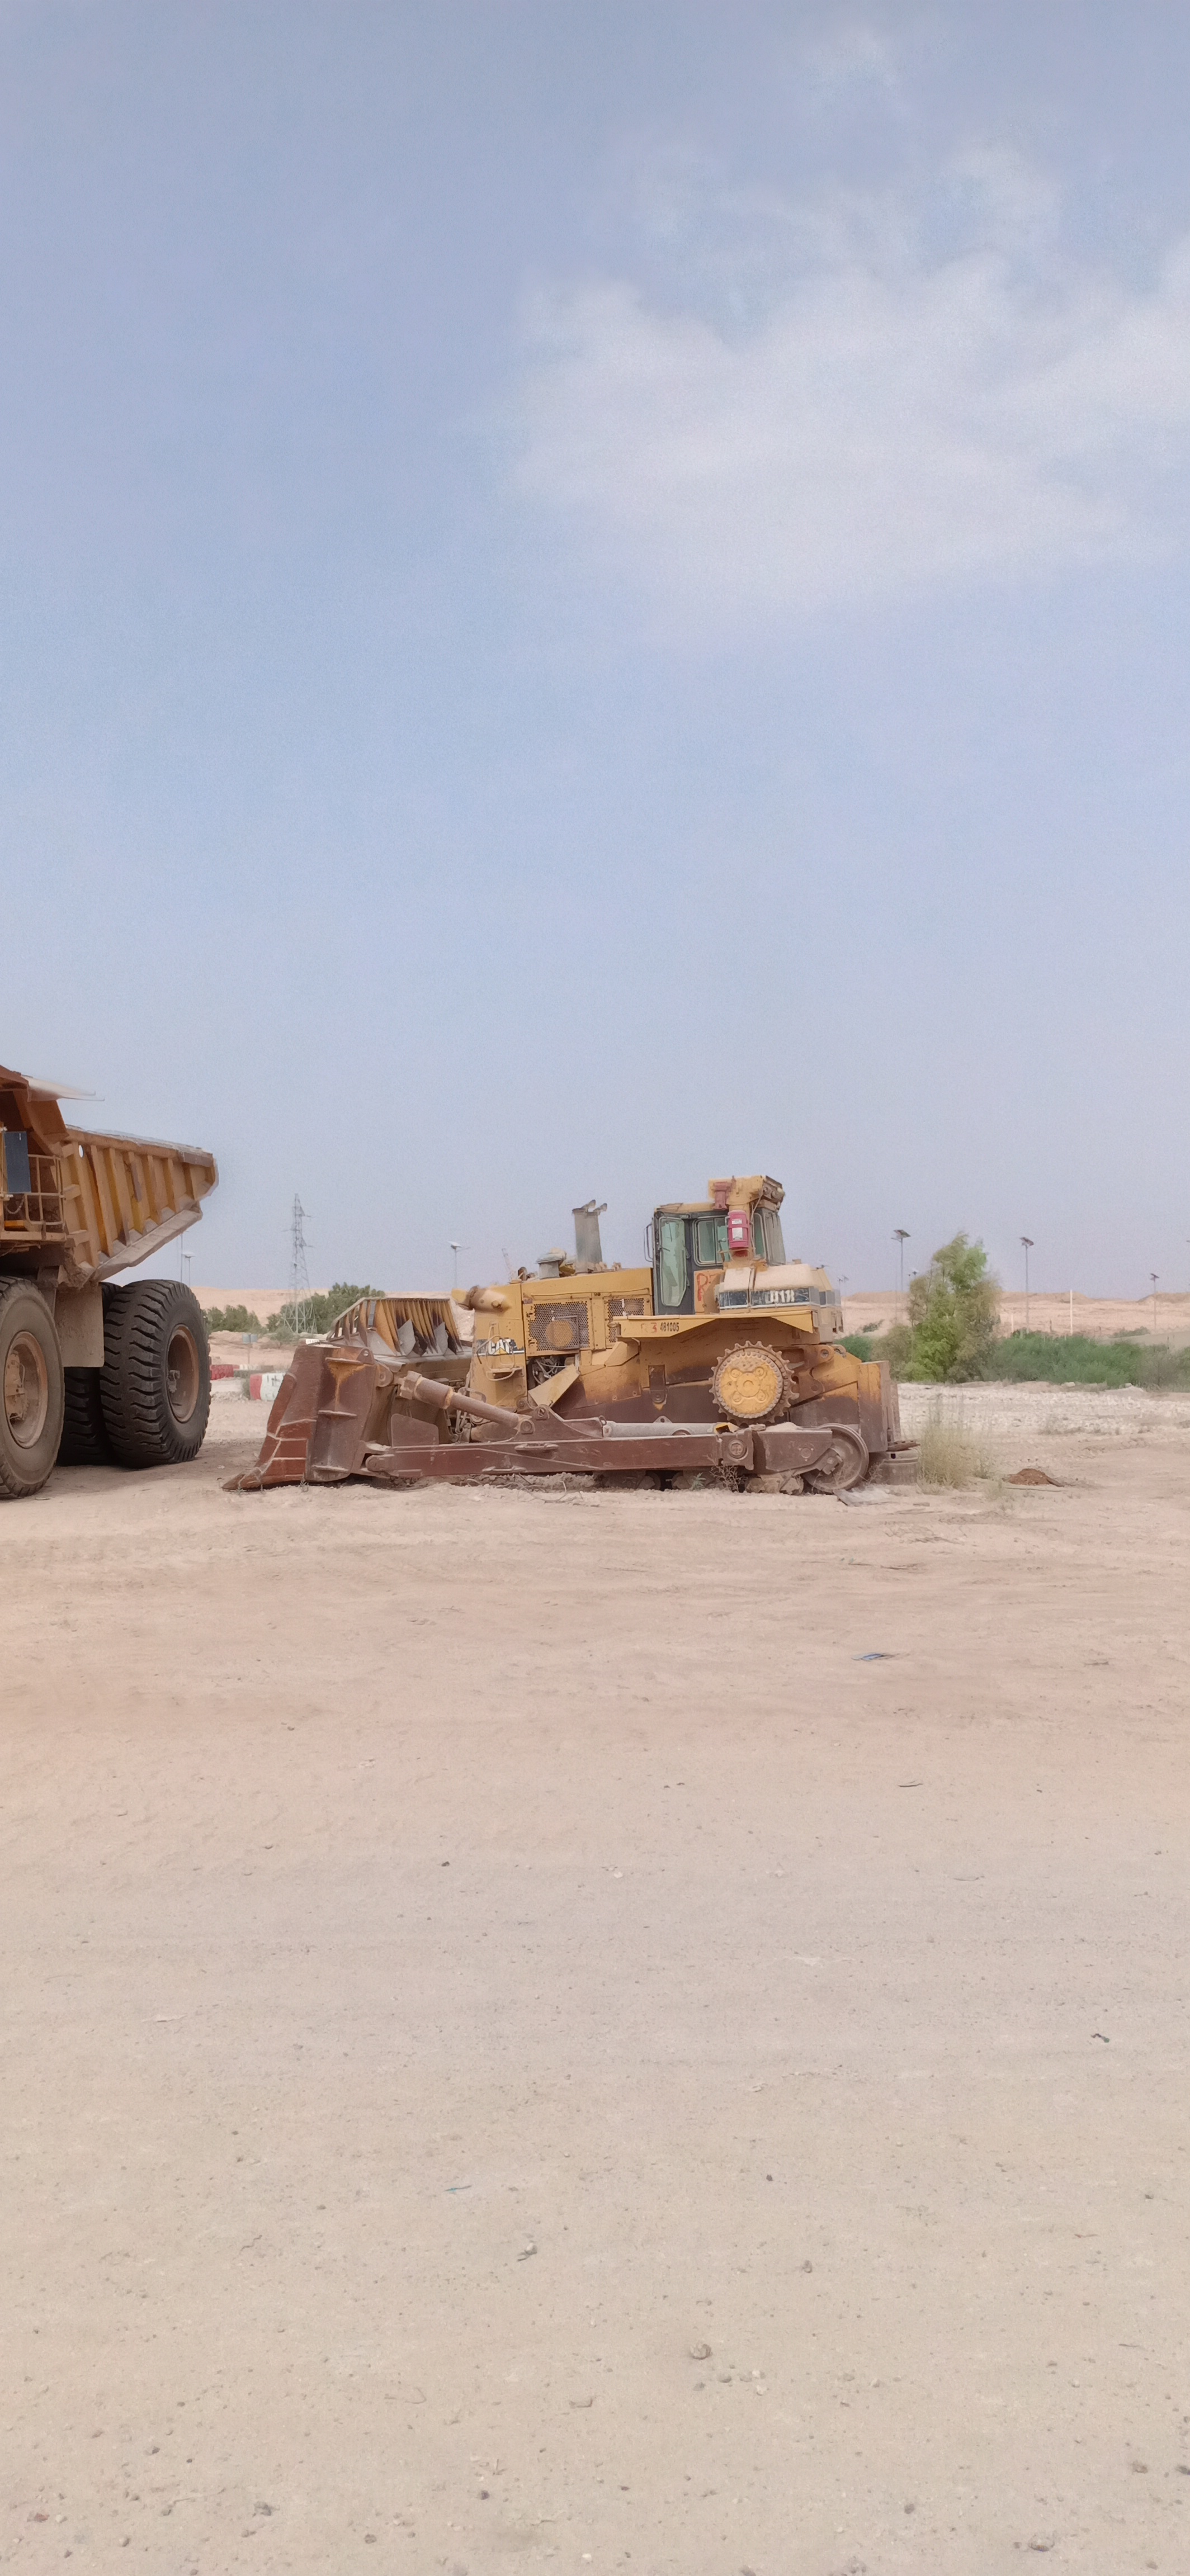bulldozer: (260, 1183, 932, 1521)
camion: (0, 1046, 248, 1528)
